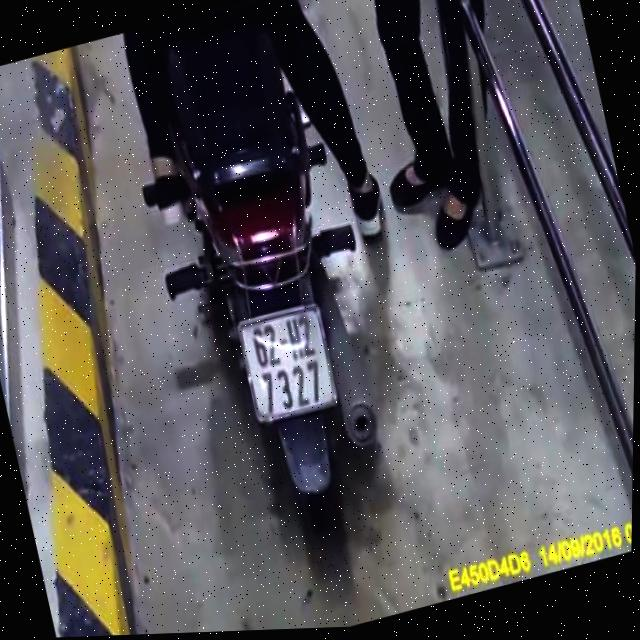motorcycle: (117, 13, 431, 560)
plate: (223, 290, 346, 431)
